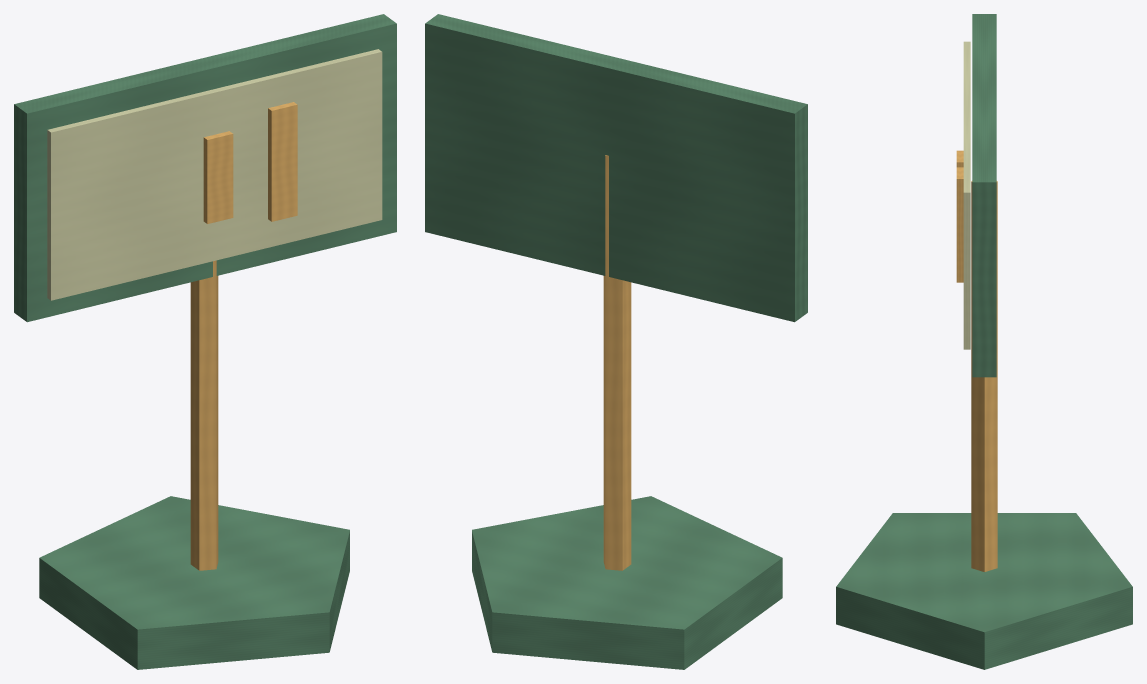
File: atlas100-s003-a11.lod1.glb
The picture shows the model from 3 angles, left to right: view 1: azimuth 30°, elevation 25°; view 2: azimuth 150°, elevation 25°; view 3: azimuth 270°, elevation 25°; orthographic projection. The views are drawn at different scales.
Visible parts, largest first — view 1: atlas100-s003-a11:part-003, atlas100-s003-a11:part-000, atlas100-s003-a11:part-002, atlas100-s003-a11:part-001, atlas100-s003-a11:part-006, atlas100-s003-a11:part-005; view 2: atlas100-s003-a11:part-002, atlas100-s003-a11:part-000, atlas100-s003-a11:part-001; view 3: atlas100-s003-a11:part-000, atlas100-s003-a11:part-002, atlas100-s003-a11:part-001, atlas100-s003-a11:part-003, atlas100-s003-a11:part-006.
Boxes of the visible parts, x1,y1,x2,y2 form: atlas100-s003-a11:part-003: [47, 49, 382, 300]; atlas100-s003-a11:part-000: [39, 496, 349, 669]; atlas100-s003-a11:part-002: [14, 14, 396, 322]; atlas100-s003-a11:part-001: [190, 260, 218, 570]; atlas100-s003-a11:part-006: [268, 102, 297, 221]; atlas100-s003-a11:part-005: [203, 131, 233, 223]; atlas100-s003-a11:part-002: [425, 14, 807, 322]; atlas100-s003-a11:part-000: [472, 496, 782, 669]; atlas100-s003-a11:part-001: [603, 155, 631, 570]; atlas100-s003-a11:part-000: [836, 513, 1132, 669]; atlas100-s003-a11:part-002: [972, 14, 996, 377]; atlas100-s003-a11:part-001: [971, 181, 997, 571]; atlas100-s003-a11:part-003: [963, 41, 970, 349]; atlas100-s003-a11:part-006: [956, 167, 963, 282].
Bounding box in the file's own units: 1.15 × 1.61 × 0.856.
3 materials, 3 textured.
